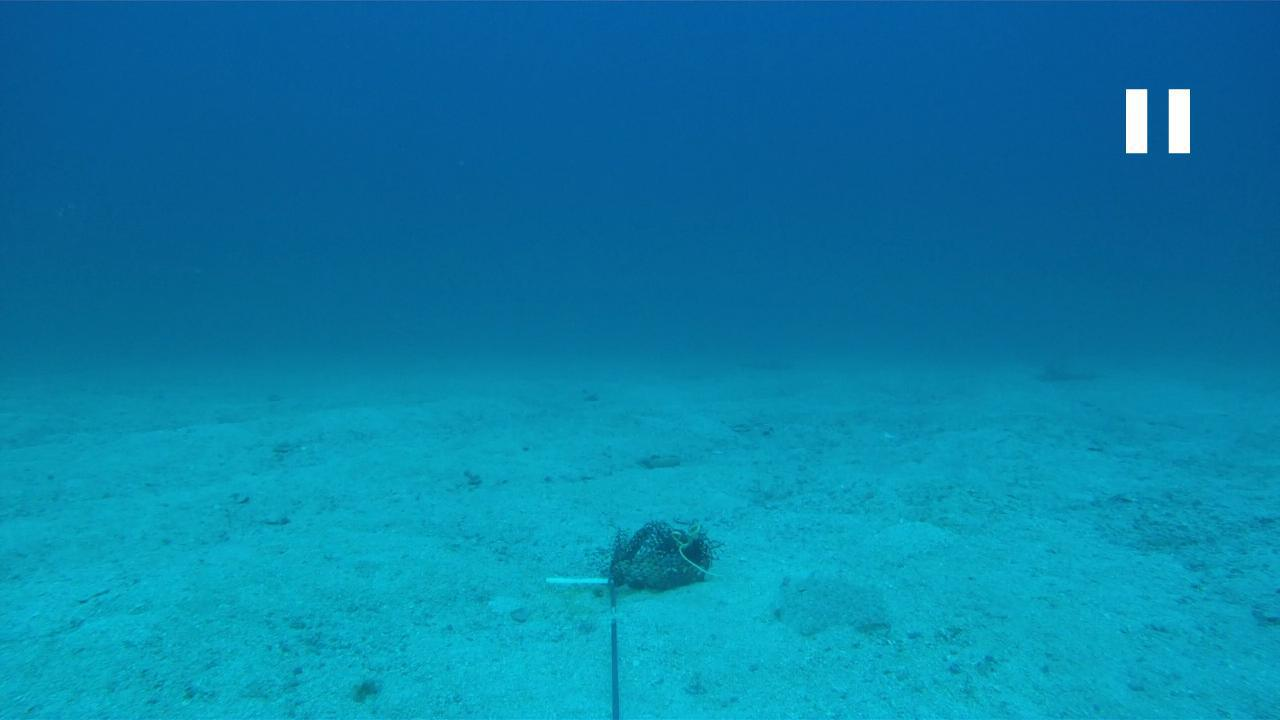bothus: (766, 567, 892, 646)
